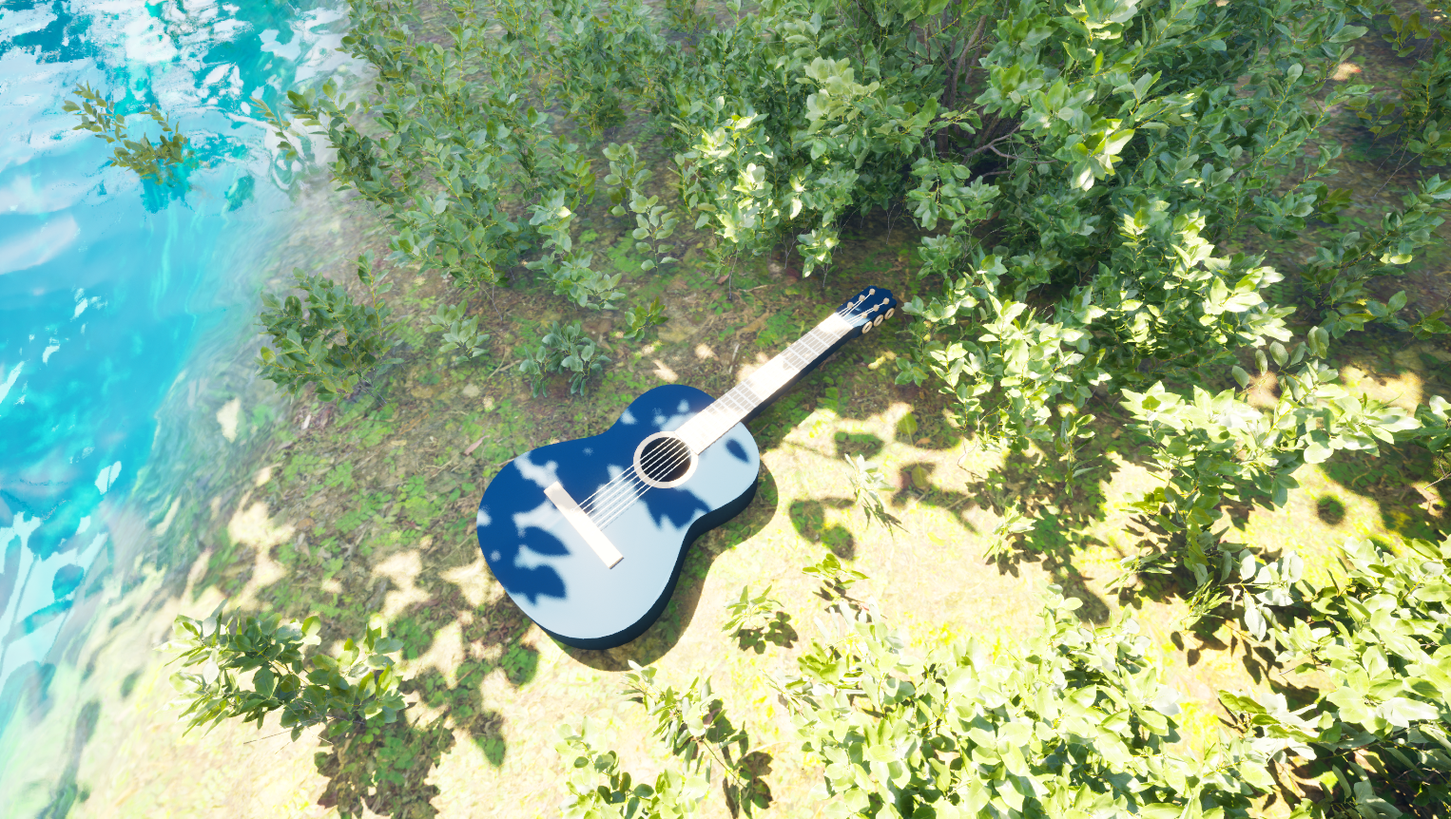Guitar: (443, 238, 963, 689)
